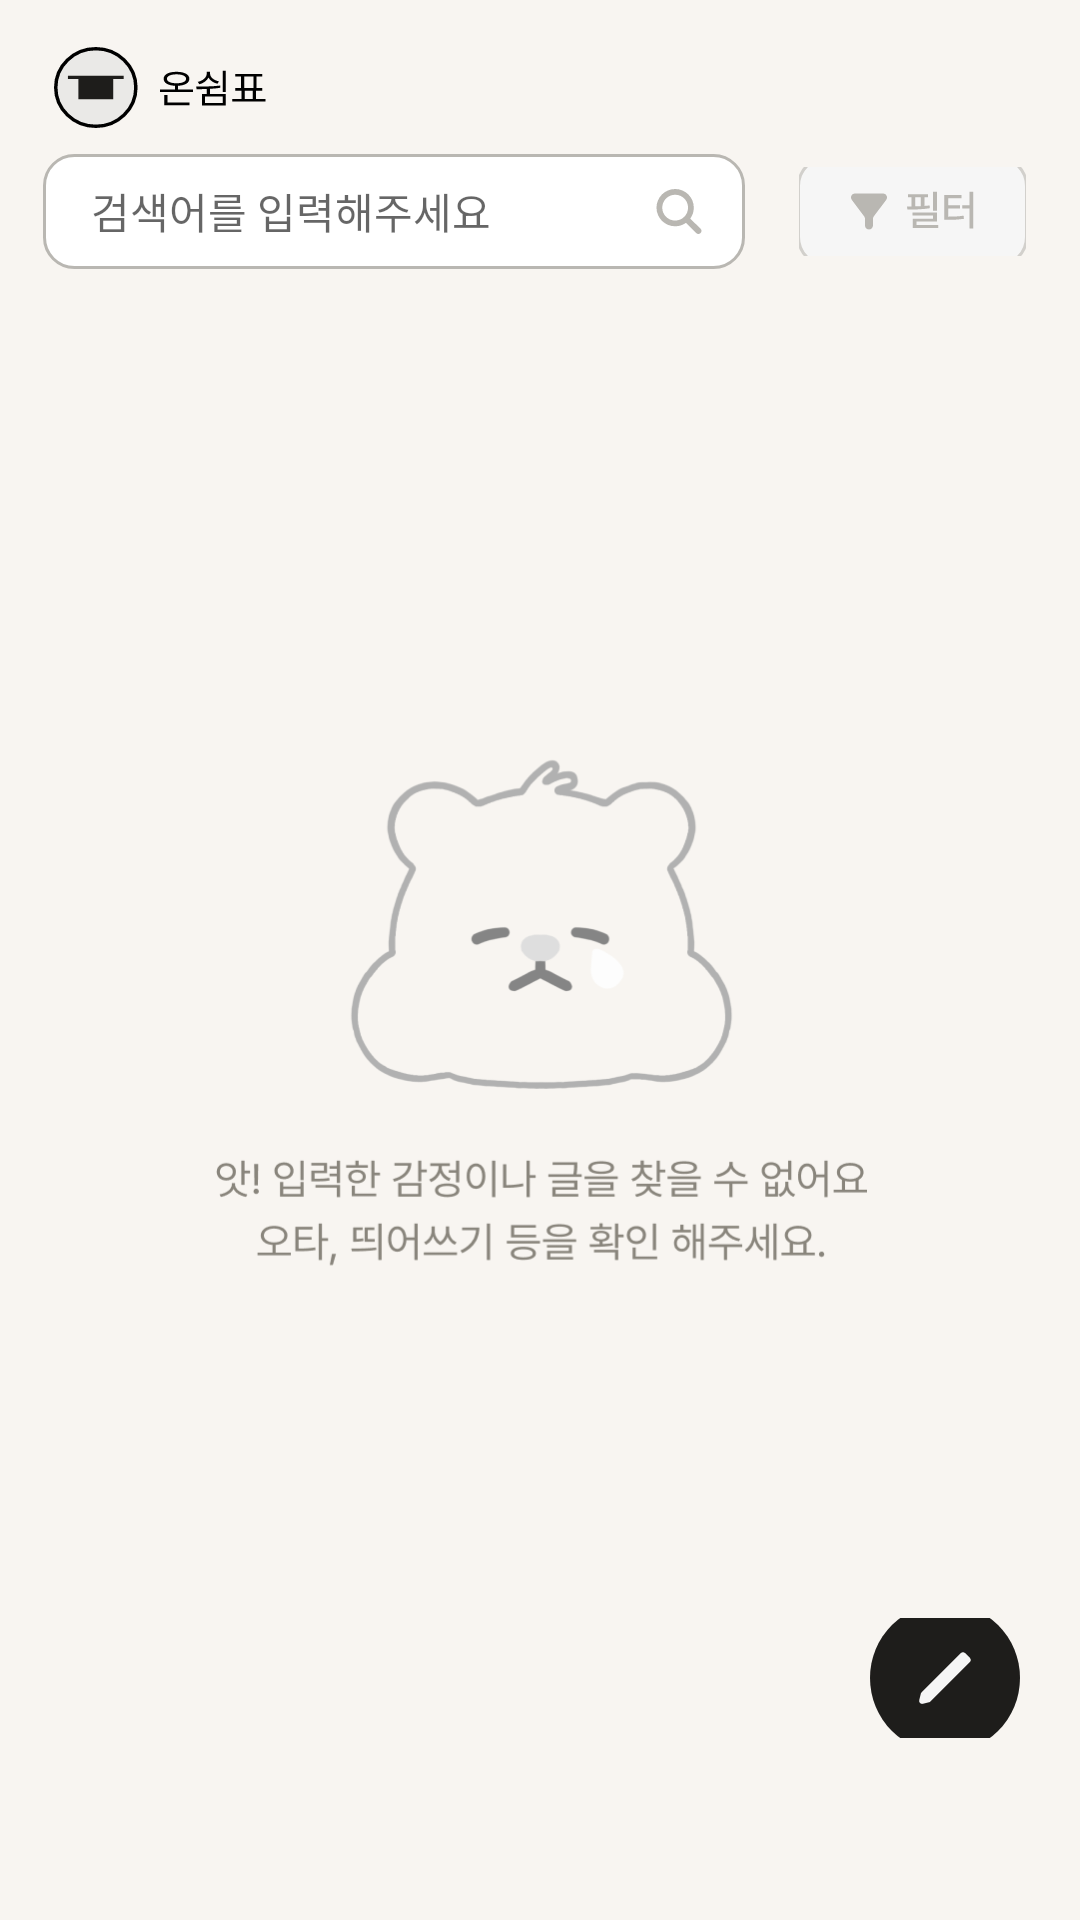

Screen size 1080px x 1920px. Icon name, then its box in pixels as BBox(x1, y1, x2, y2):
pen: BBox(870, 1618, 1020, 1738)
